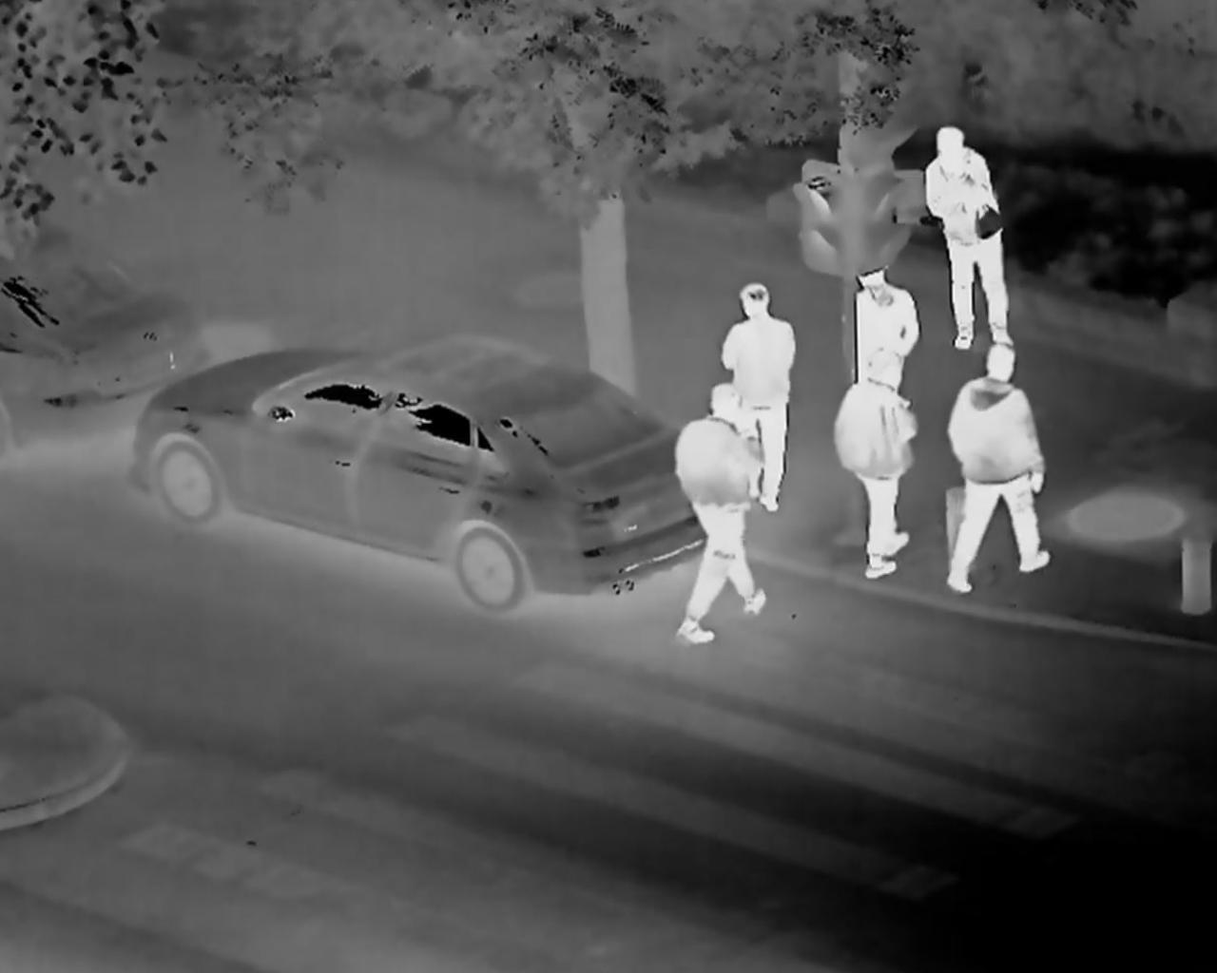person: (920, 334, 1053, 601), (661, 377, 772, 666), (927, 124, 1018, 360), (719, 279, 803, 521), (834, 346, 902, 589), (844, 238, 927, 423)
